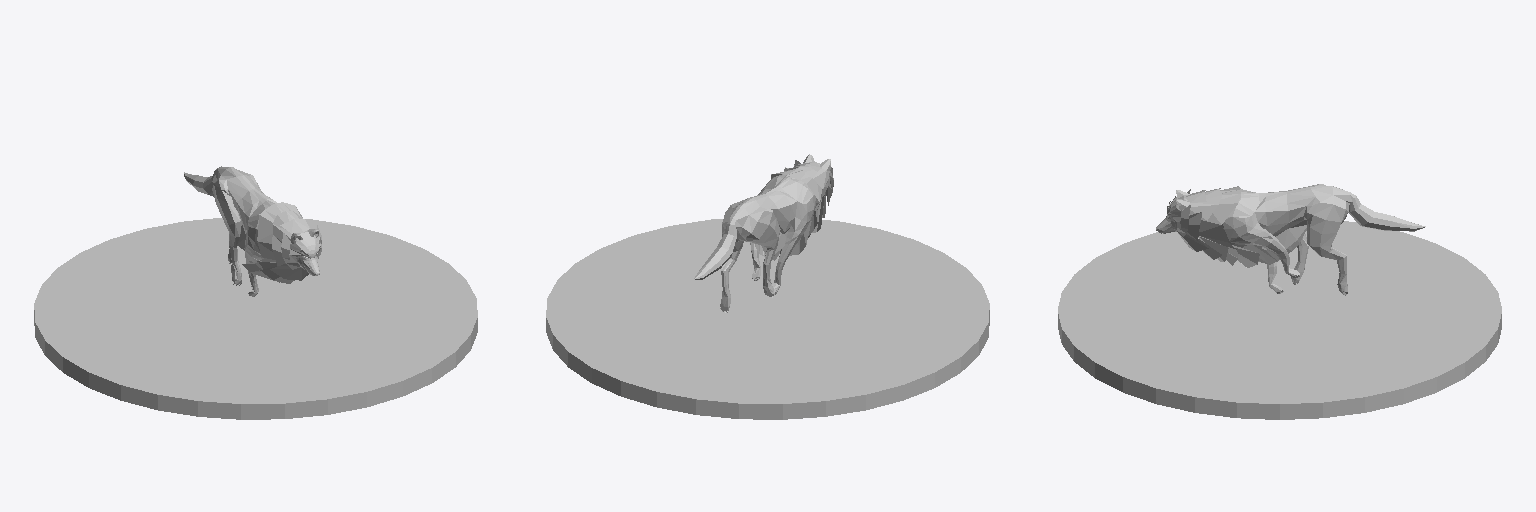
The model's file is Wolf_0006.obj.
3 views of the same model, side by side, from view 1: azimuth 30°, elevation 25°; view 2: azimuth 150°, elevation 25°; view 3: azimuth 270°, elevation 25° (orthographic).
Parts seen in each view (by area): view 1: Circle, Wolf1_Material__wolf_col_tga_0, Wolf2_fur__fella3_jpg_001_0; view 2: Circle, Wolf1_Material__wolf_col_tga_0, Wolf2_fur__fella3_jpg_001_0; view 3: Circle, Wolf1_Material__wolf_col_tga_0, Wolf2_fur__fella3_jpg_001_0.
Part boxes in pixels (left/top/right/bottom): Circle: left=34, top=218, right=477, bottom=419; Wolf1_Material__wolf_col_tga_0: left=184, top=166, right=319, bottom=296; Wolf2_fur__fella3_jpg_001_0: left=237, top=202, right=321, bottom=283; Circle: left=546, top=219, right=989, bottom=419; Wolf1_Material__wolf_col_tga_0: left=694, top=154, right=830, bottom=311; Wolf2_fur__fella3_jpg_001_0: left=754, top=160, right=833, bottom=260; Circle: left=1058, top=221, right=1501, bottom=419; Wolf1_Material__wolf_col_tga_0: left=1156, top=184, right=1425, bottom=293; Wolf2_fur__fella3_jpg_001_0: left=1167, top=186, right=1306, bottom=267.
Size of the model in its own units: 1.69 by 0.587 by 1.69.